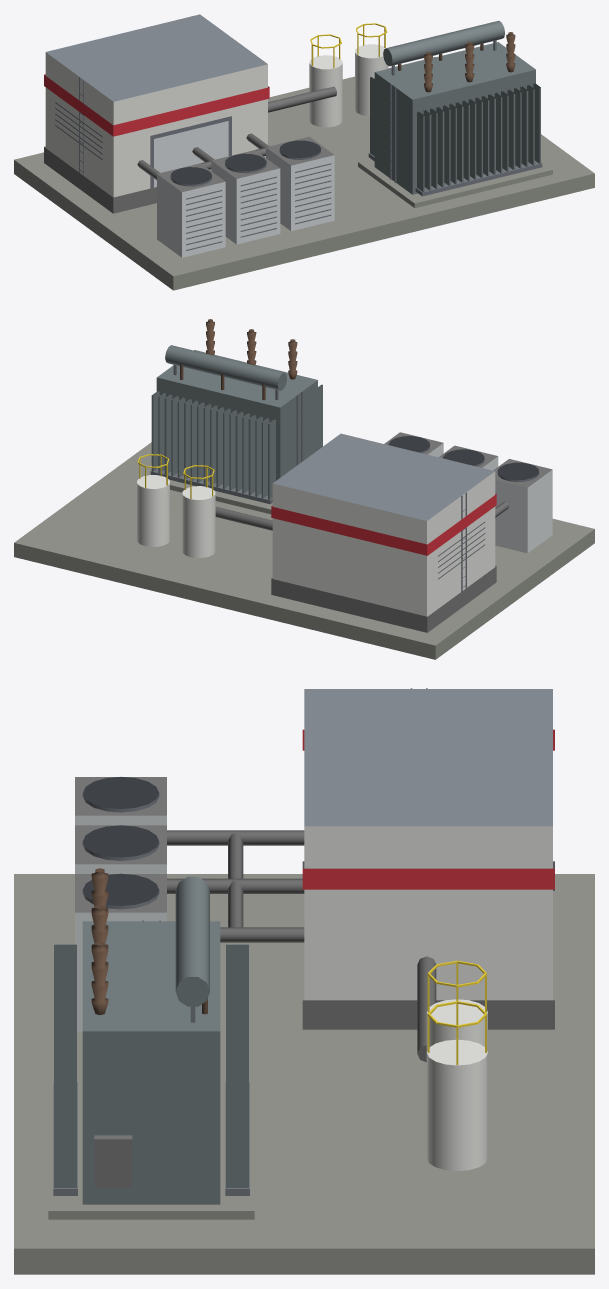
The model's file is mashup-utility-top-prebuilt_close.fbx.
3 renders of one model, top to bottom at view 1: azimuth 30°, elevation 25°; view 2: azimuth 150°, elevation 25°; view 3: azimuth 270°, elevation 25°, orthographic. The views are drawn at different scales.
Visible parts, largest first — view 1: a1029/0/mashup-utility-top-prebuilt_close; view 2: a1029/0/mashup-utility-top-prebuilt_close; view 3: a1029/0/mashup-utility-top-prebuilt_close.
Boxes of the visible parts, x1=… form: a1029/0/mashup-utility-top-prebuilt_close: x1=14, y1=14, x2=594, y2=290; a1029/0/mashup-utility-top-prebuilt_close: x1=14, y1=319, x2=594, y2=659; a1029/0/mashup-utility-top-prebuilt_close: x1=14, y1=688, x2=594, y2=1274.
Bounding box in the file's own units: 23.2 × 8 × 15.2.
